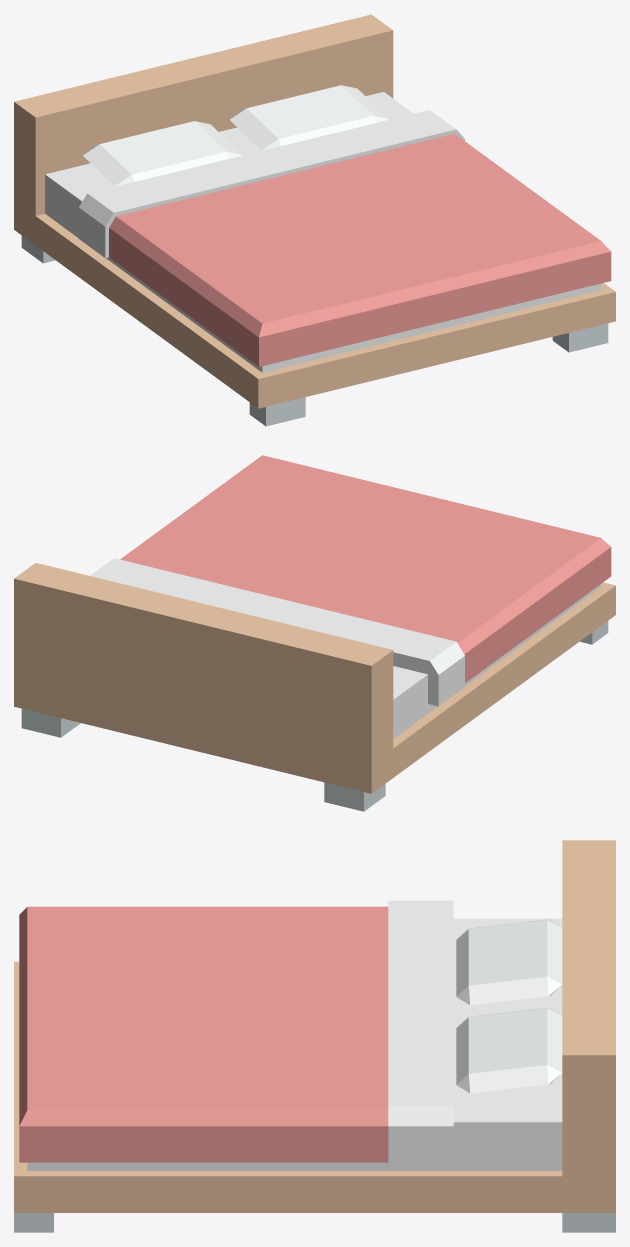
File: bedDouble-2.glb
3 views of the same model, one above another, from view 1: azimuth 30°, elevation 25°; view 2: azimuth 150°, elevation 25°; view 3: azimuth 270°, elevation 25° (orthographic). The views are drawn at different scales.
Visible parts, largest first — view 1: bedDouble(Clone); view 2: bedDouble(Clone); view 3: bedDouble(Clone).
Boxes of the visible parts, x1,y1,x2,y2 form: bedDouble(Clone): (14, 14, 615, 426); bedDouble(Clone): (14, 455, 615, 811); bedDouble(Clone): (14, 840, 615, 1232).
Size of the model in its own units: 0.956 by 0.375 by 1.12.
